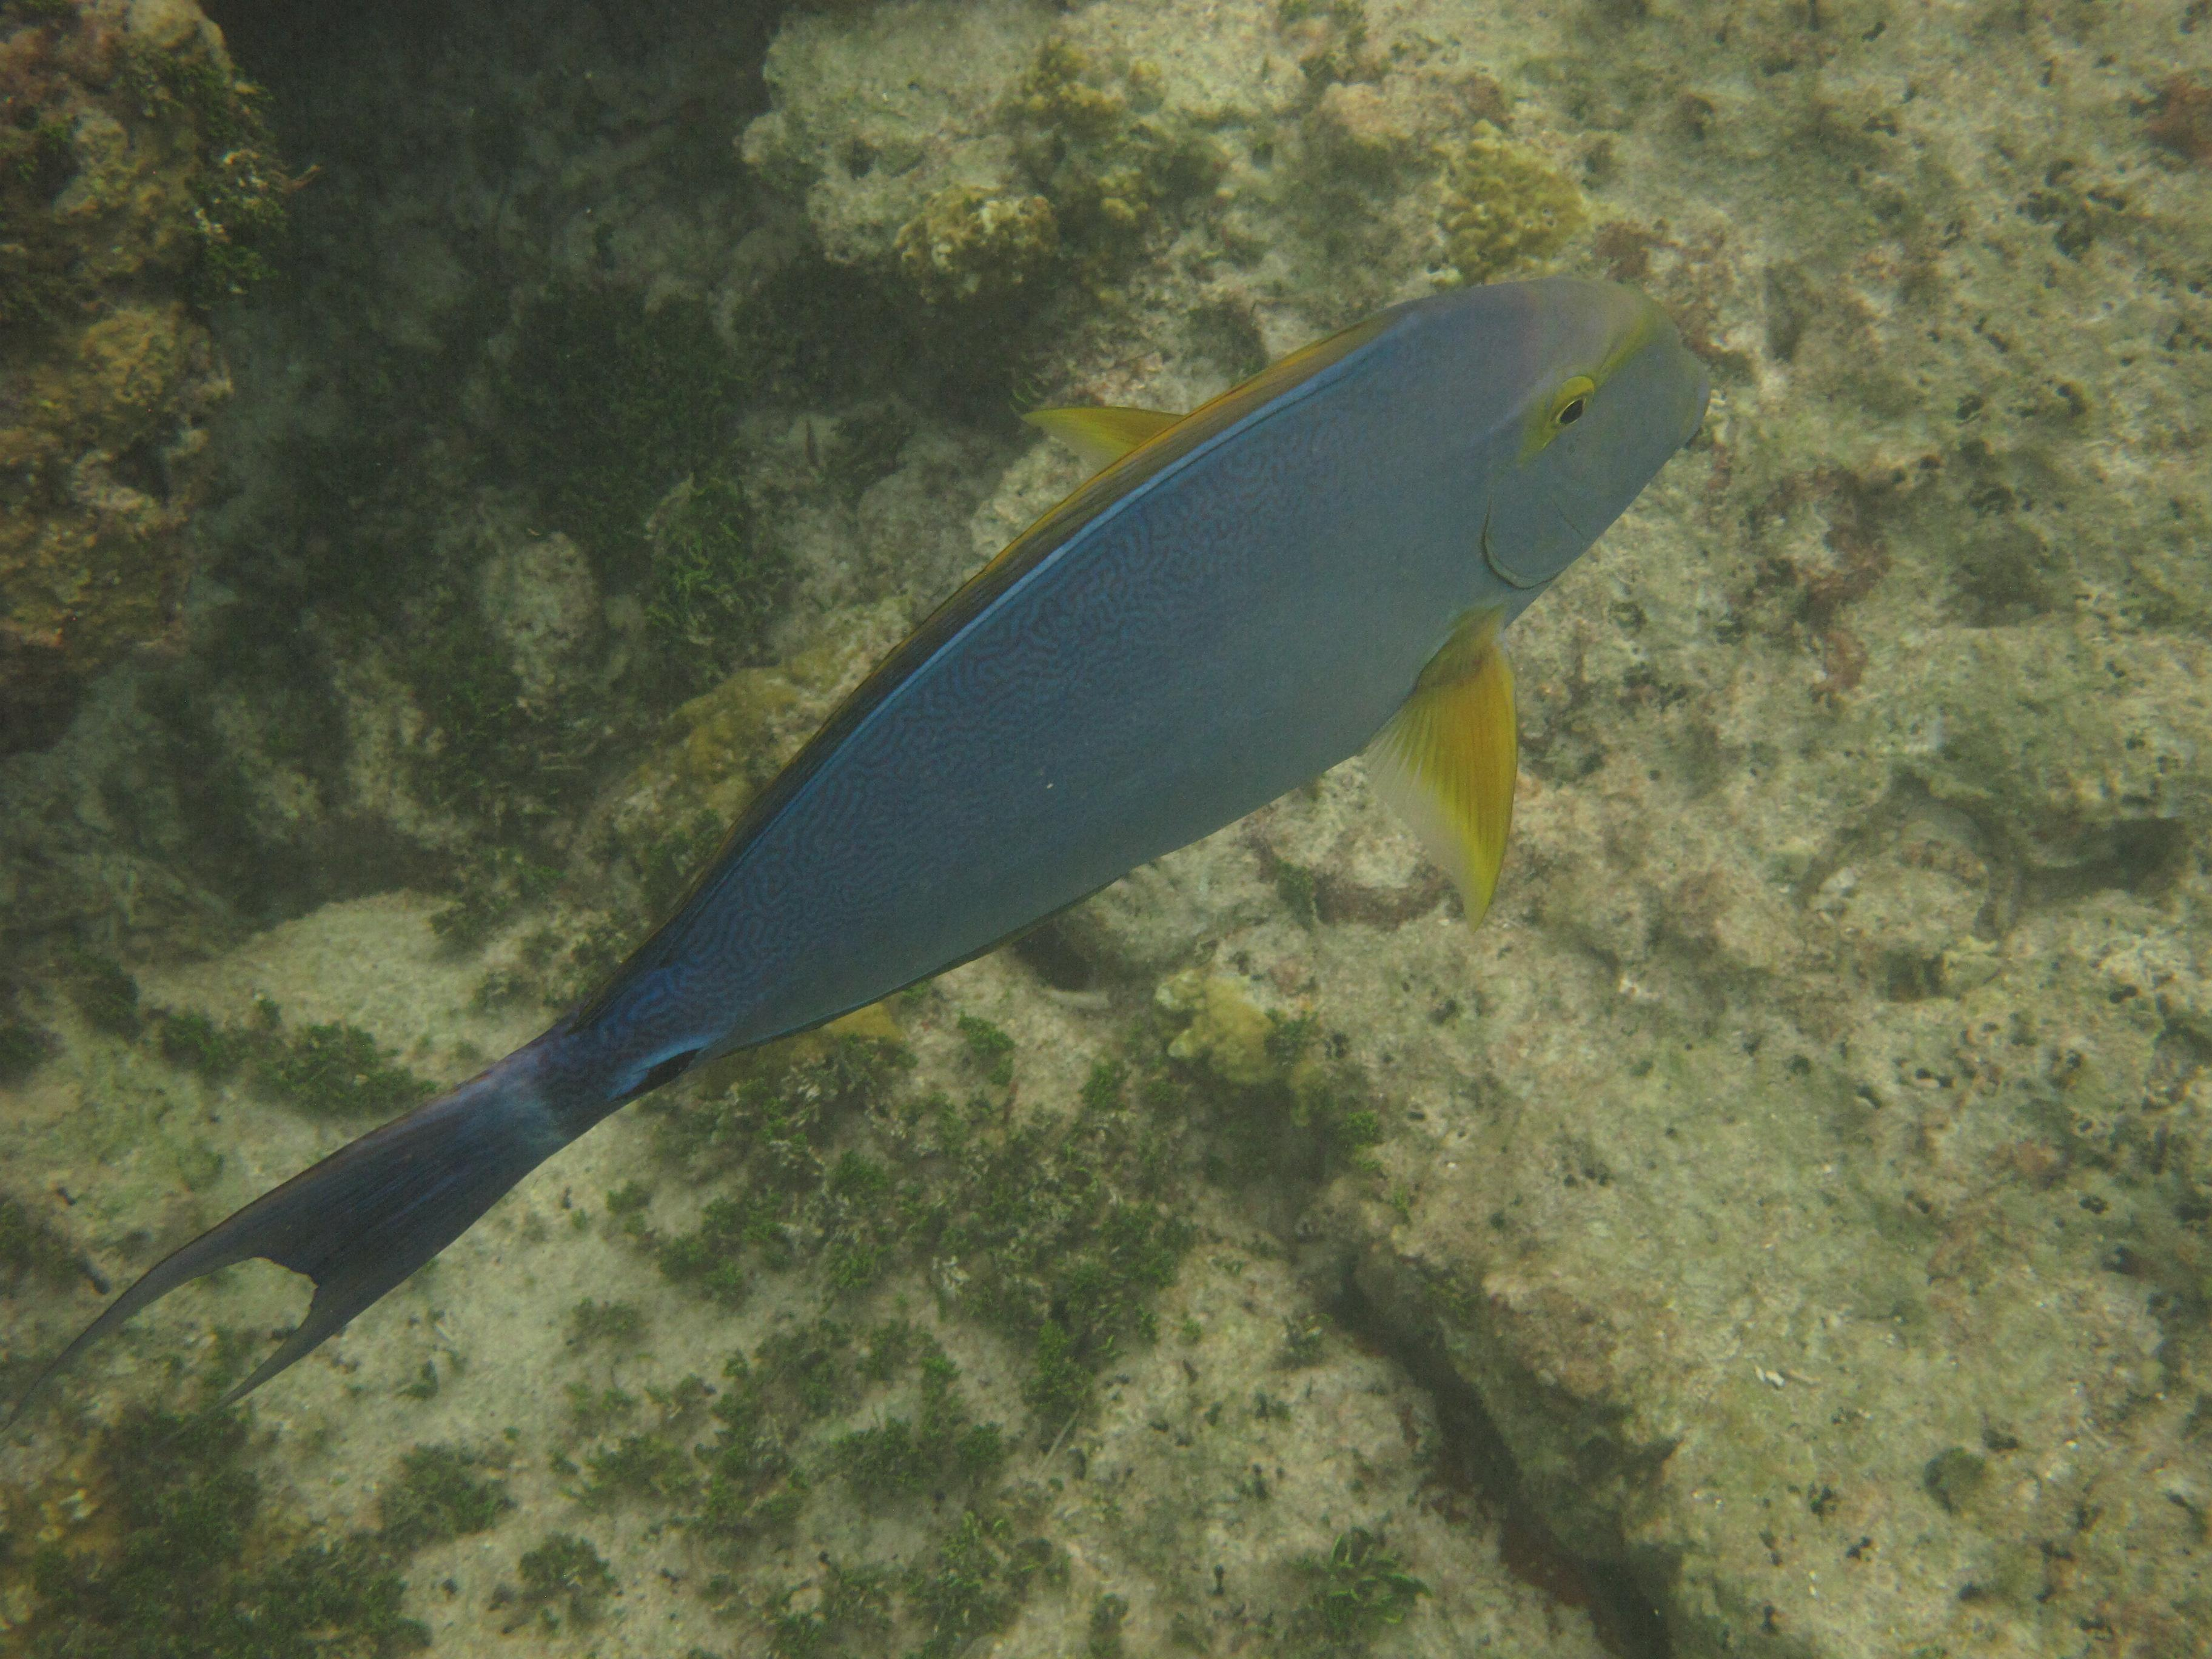Fish: (0, 192, 1898, 1558)
